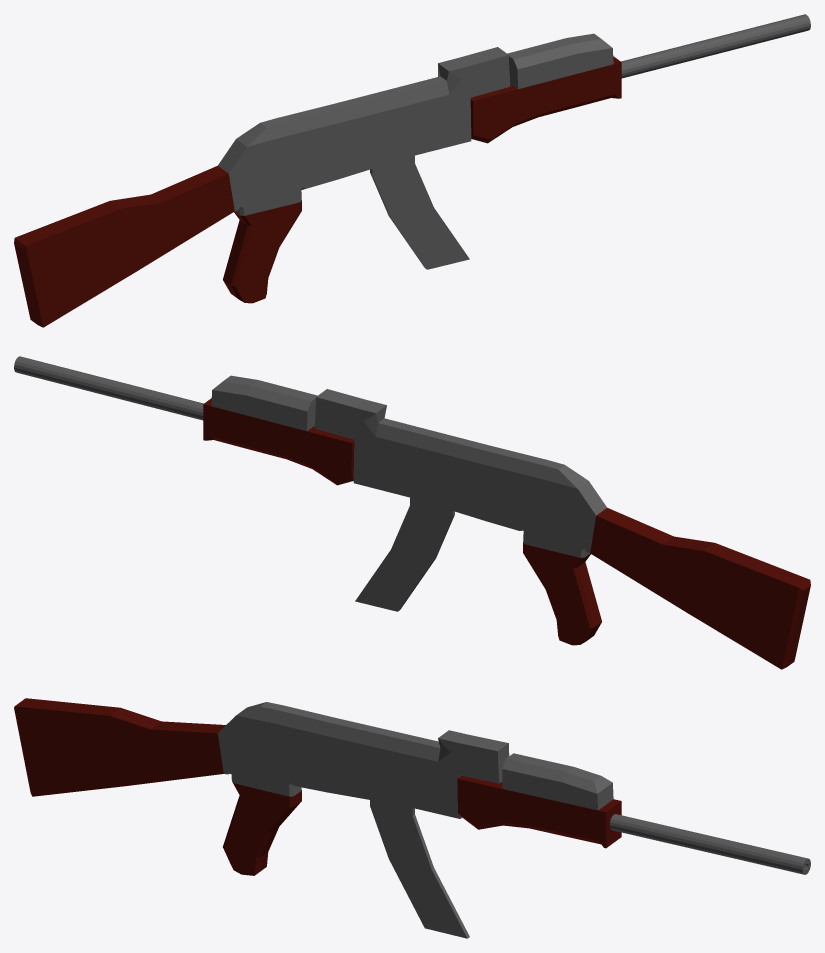
The model's file is AK47 Assault Rifle.obj.
3 renders of one model, top to bottom at view 1: azimuth 30°, elevation 25°; view 2: azimuth 150°, elevation 25°; view 3: azimuth 330°, elevation 25°, orthographic.
Parts seen in each view (by area): view 1: Cube_Cube.001; view 2: Cube_Cube.001; view 3: Cube_Cube.001.
Part boxes in pixels (x1,y1,x2,y2): Cube_Cube.001: [14, 14, 810, 327]; Cube_Cube.001: [14, 356, 810, 669]; Cube_Cube.001: [14, 698, 810, 938].
Size of the model in its own units: 4.71 by 1.14 by 0.1599.
